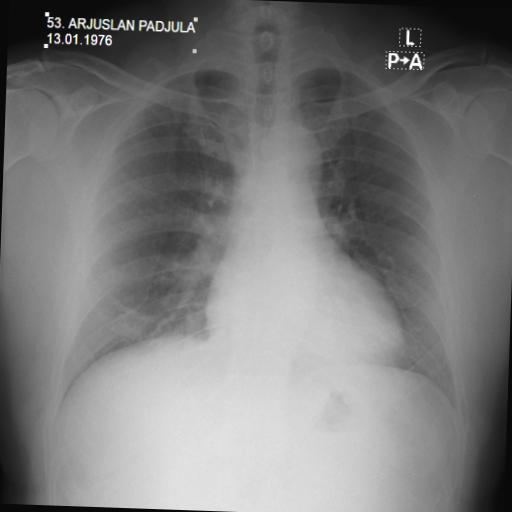kardiomegali: (44, 24, 482, 433)
